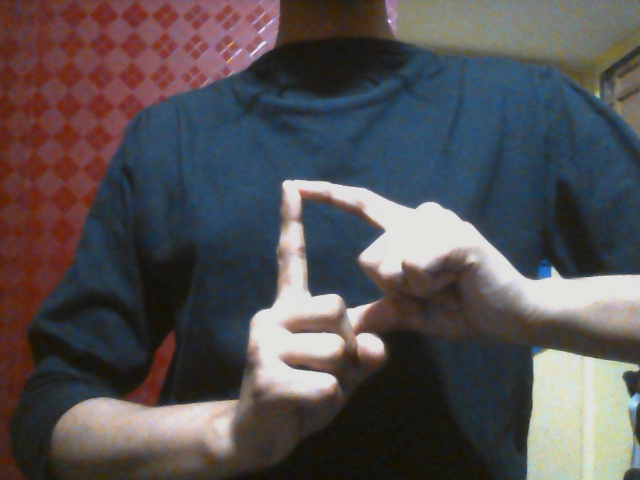D: (237, 179, 507, 464)
